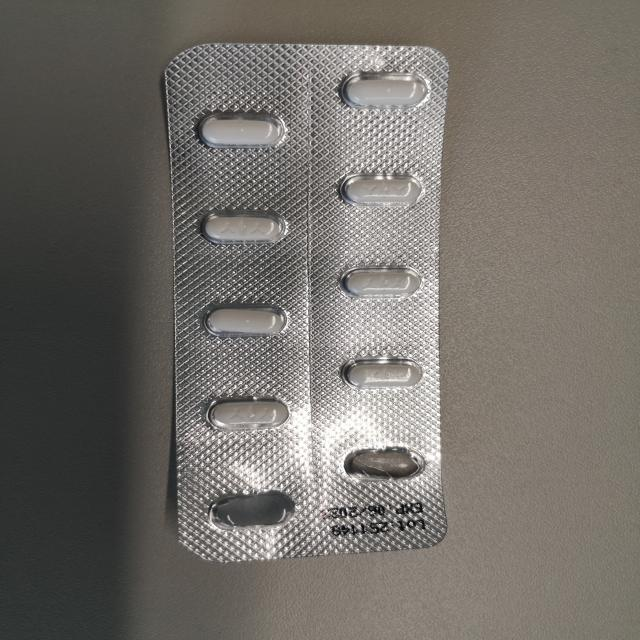Empty: (203, 487, 299, 530), (338, 443, 429, 483)
Pill: (190, 107, 290, 151), (334, 168, 426, 210), (196, 208, 292, 248), (337, 69, 429, 110), (200, 394, 292, 433), (201, 299, 289, 339), (335, 355, 428, 391), (336, 265, 427, 299)
